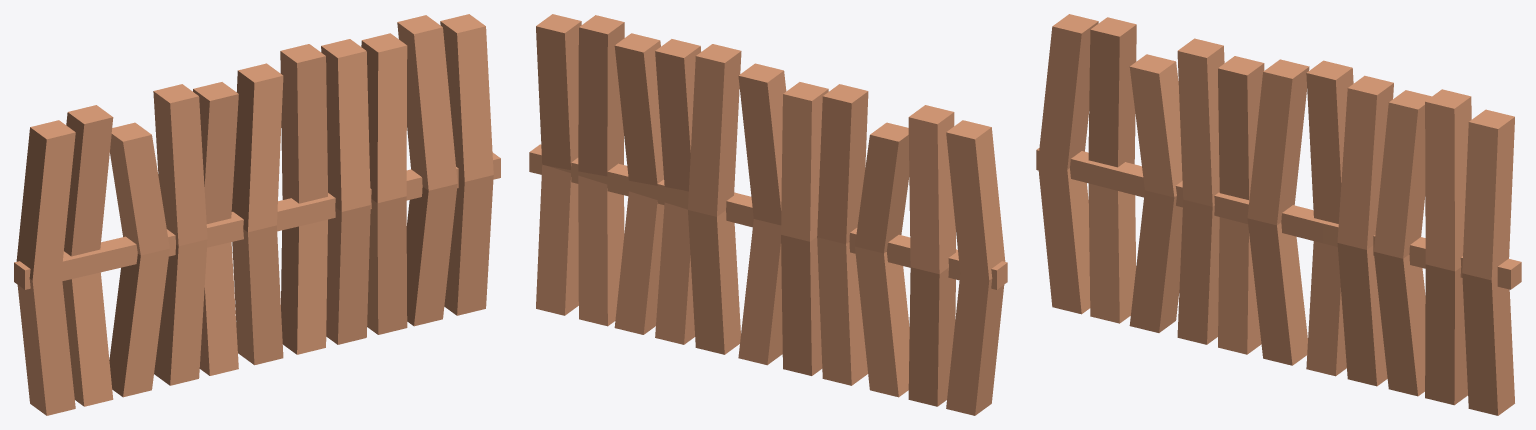
The model's file is shortfence.fbx.
3 renders of one model, left to right at view 1: azimuth 30°, elevation 25°; view 2: azimuth 150°, elevation 25°; view 3: azimuth 330°, elevation 25°, orthographic.
Parts seen in each view (by area): view 1: shortfence; view 2: shortfence; view 3: shortfence.
Part boxes in pixels (x1,y1,x2,y2): shortfence: (14, 14, 500, 415); shortfence: (529, 14, 1007, 415); shortfence: (1036, 14, 1521, 415).
Bounding box in the file's own units: 2.62 × 1.55 × 0.2856.
